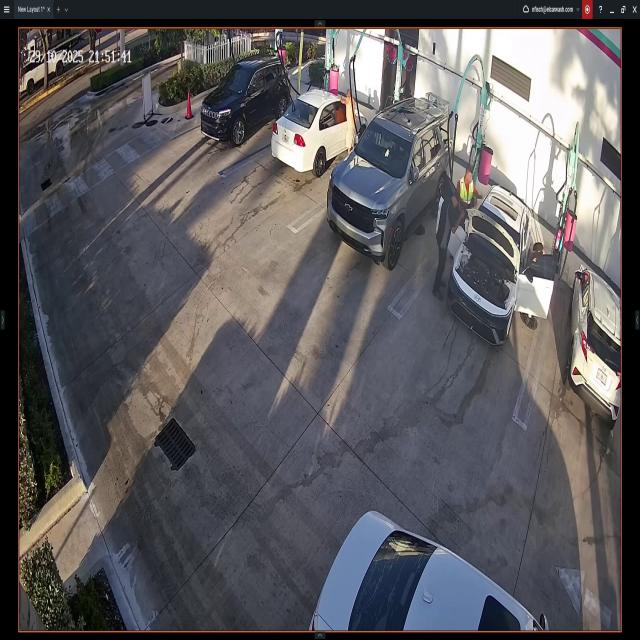Car: (294, 507, 548, 634), (328, 96, 451, 266), (442, 168, 558, 346), (570, 265, 620, 424), (274, 88, 365, 173), (201, 60, 289, 146)
